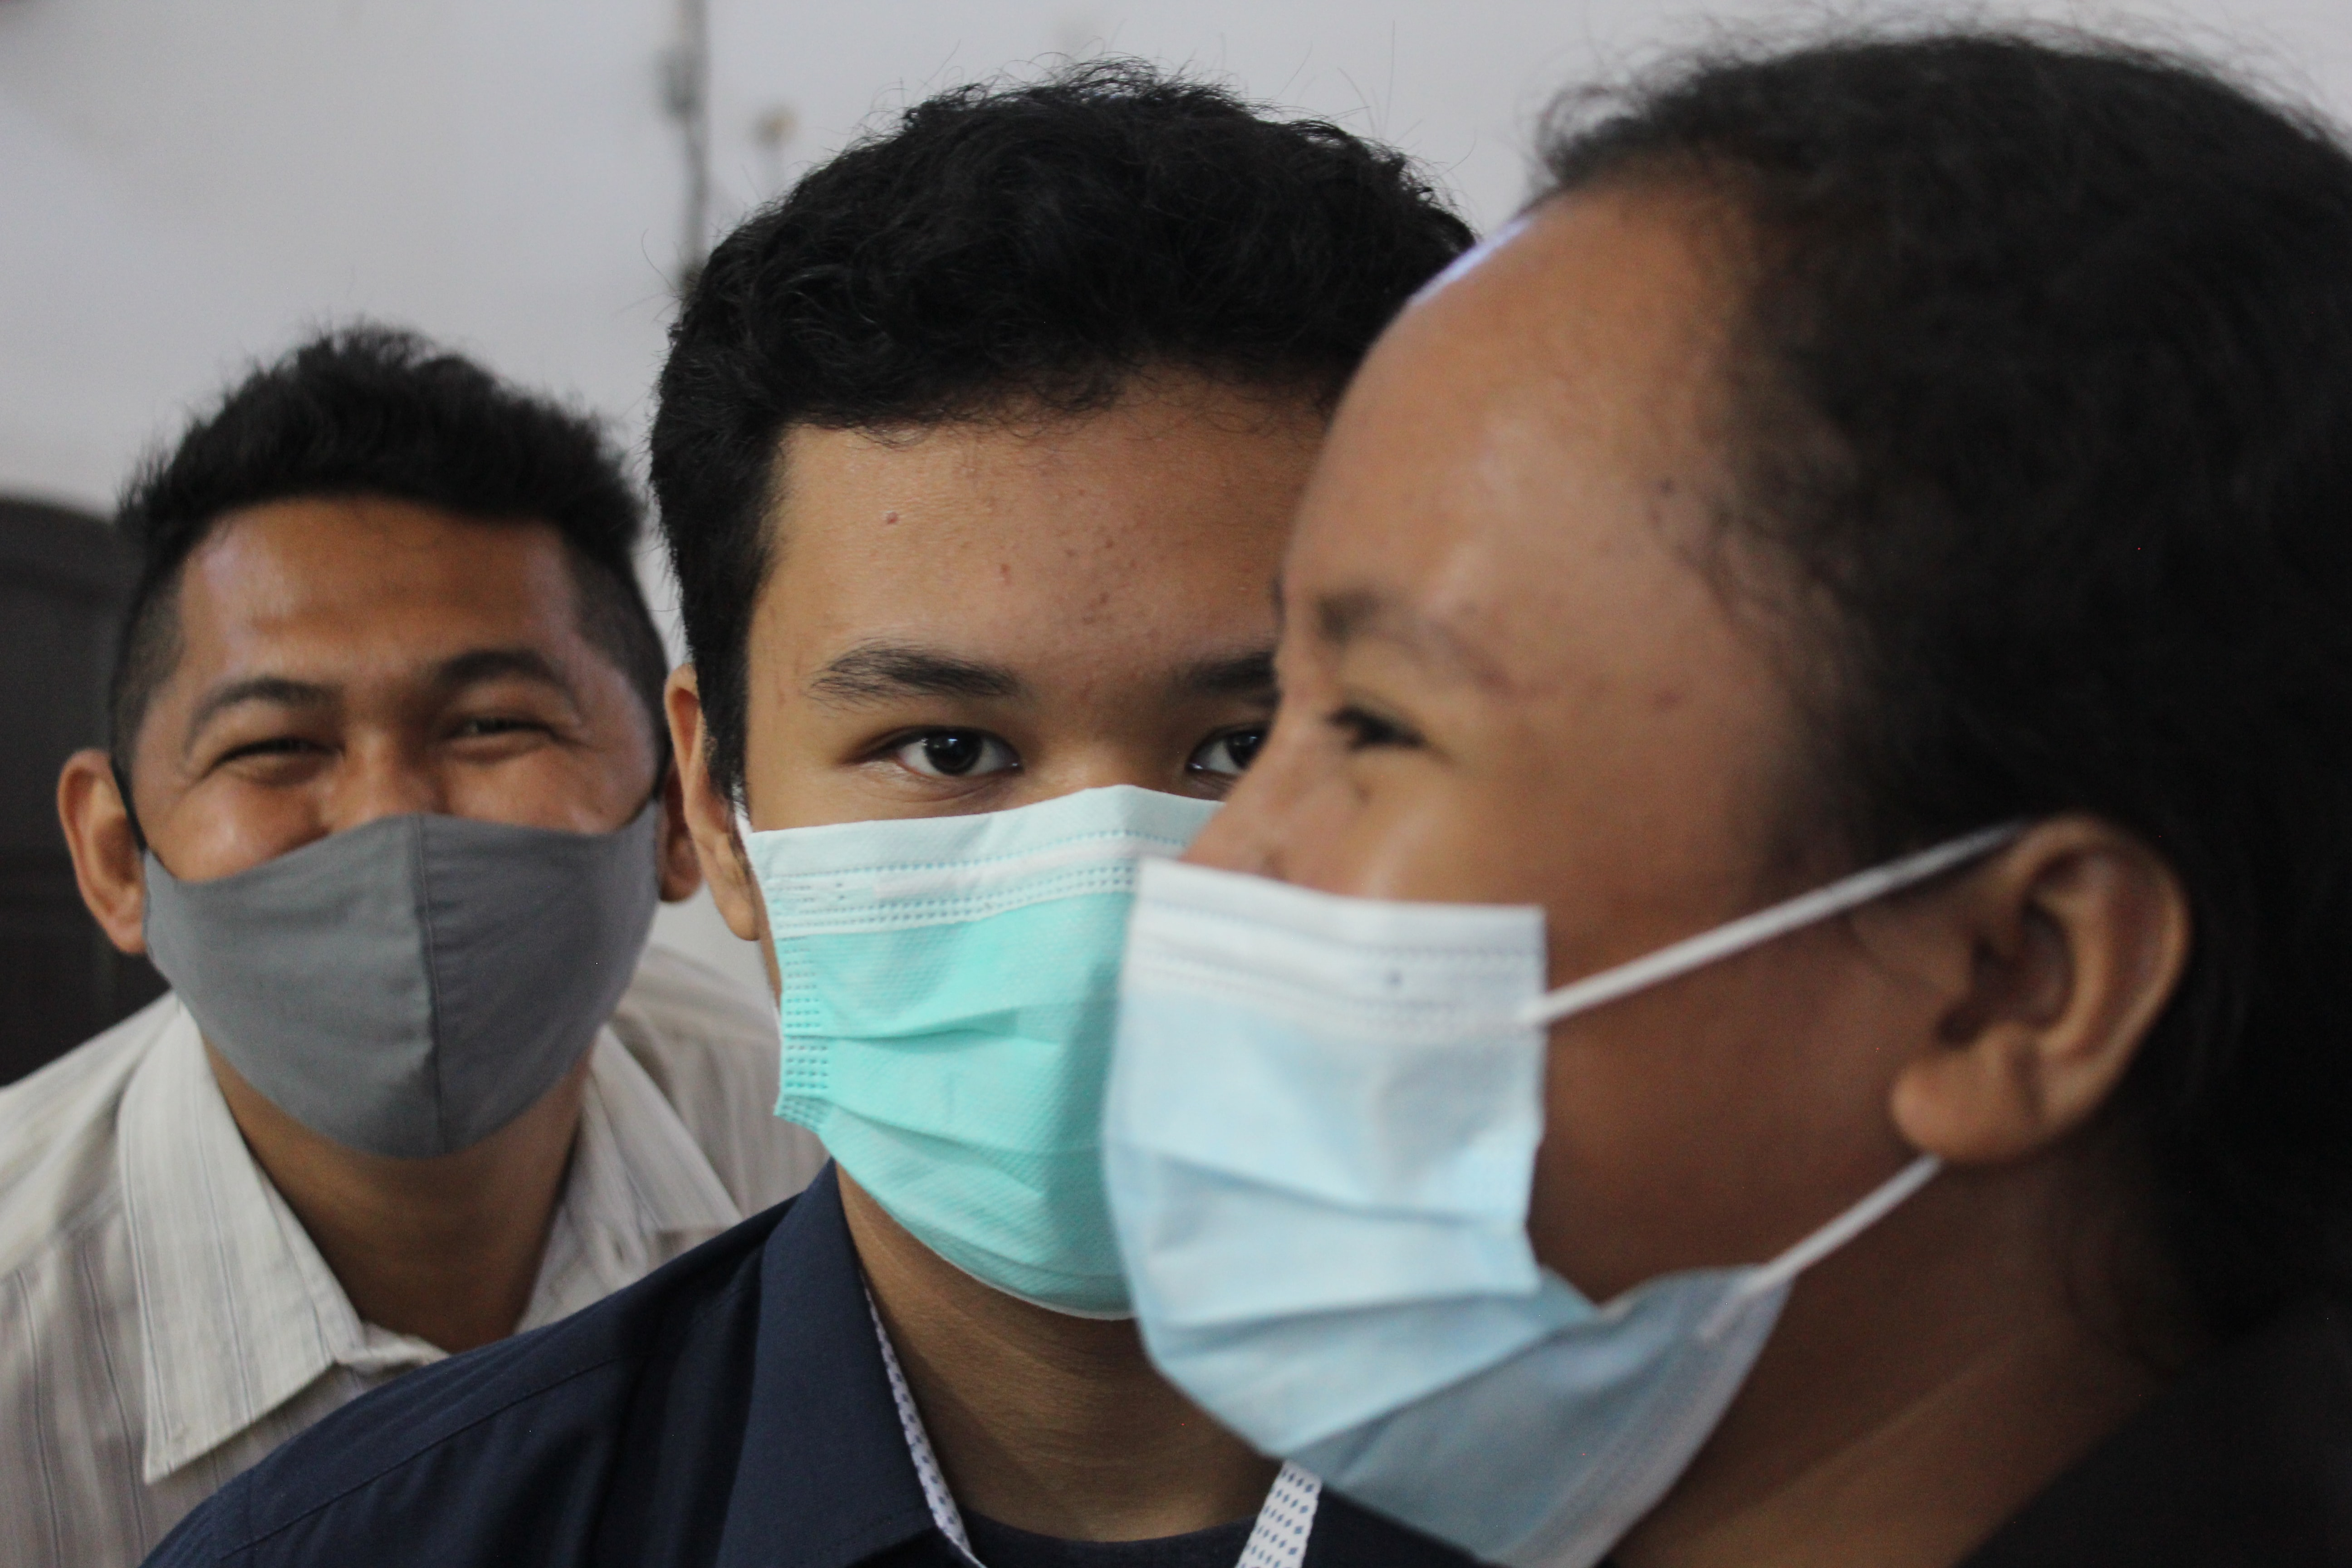mask: (1102, 835, 1809, 1551), (706, 789, 1275, 1328), (117, 804, 698, 1167)
person: (1094, 41, 2352, 1568), (638, 144, 1497, 1568), (15, 343, 774, 1488)
